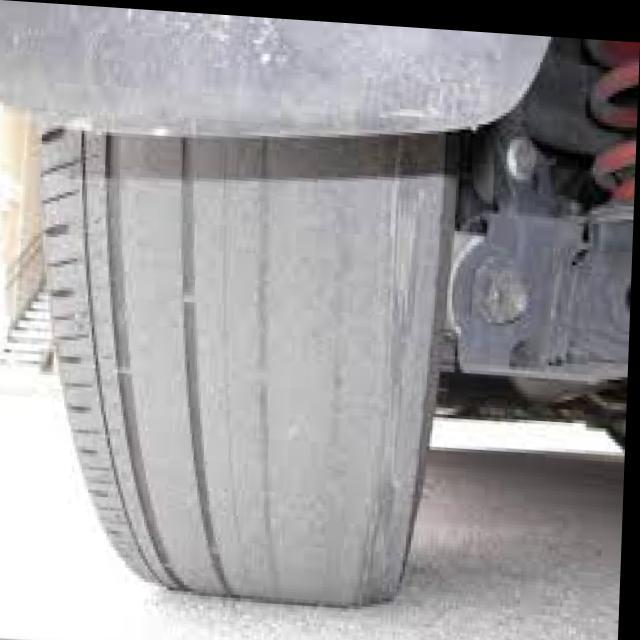Flat spots: (105, 142, 409, 584)
